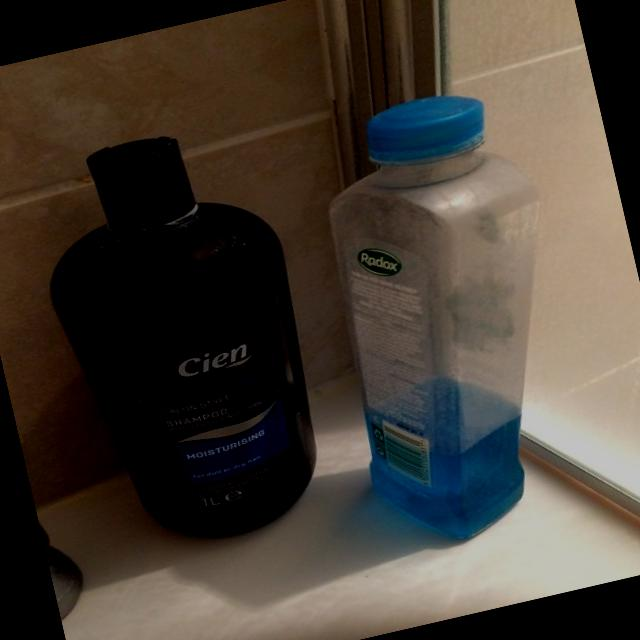Recycle: (288, 78, 614, 558), (19, 112, 342, 566)
